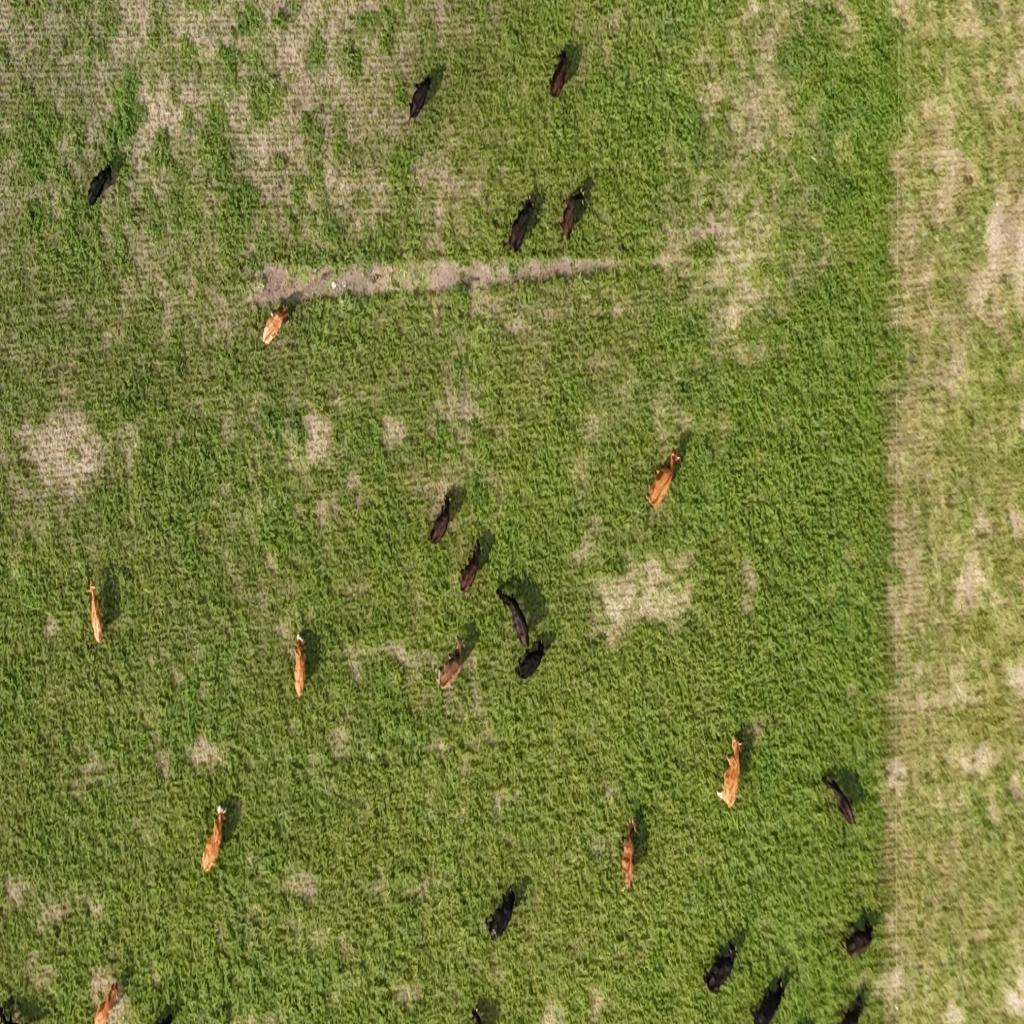cow: (482, 874, 528, 950), (715, 728, 747, 818), (800, 982, 866, 1024), (704, 928, 743, 999), (642, 444, 681, 511), (497, 584, 535, 652), (80, 155, 118, 217), (821, 772, 858, 833), (559, 177, 588, 253), (436, 629, 470, 689), (504, 193, 536, 255), (203, 800, 228, 878), (751, 972, 788, 1024), (515, 638, 551, 690), (107, 962, 138, 1020), (408, 69, 438, 123), (457, 532, 483, 594), (262, 295, 294, 345), (620, 818, 640, 897), (842, 916, 874, 960), (427, 491, 452, 546), (552, 48, 576, 104), (92, 980, 120, 1024), (3, 991, 37, 1023), (89, 580, 105, 646), (292, 631, 306, 699), (466, 995, 496, 1024)
